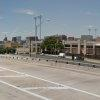Tree: (41, 34, 61, 55)
